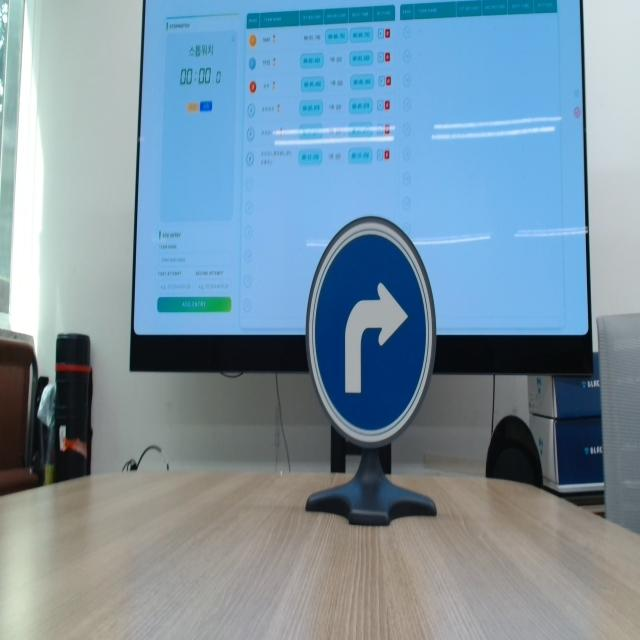right_dierection: (302, 208, 478, 460)
